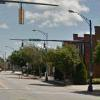Traffic light: (10, 4, 43, 30)
